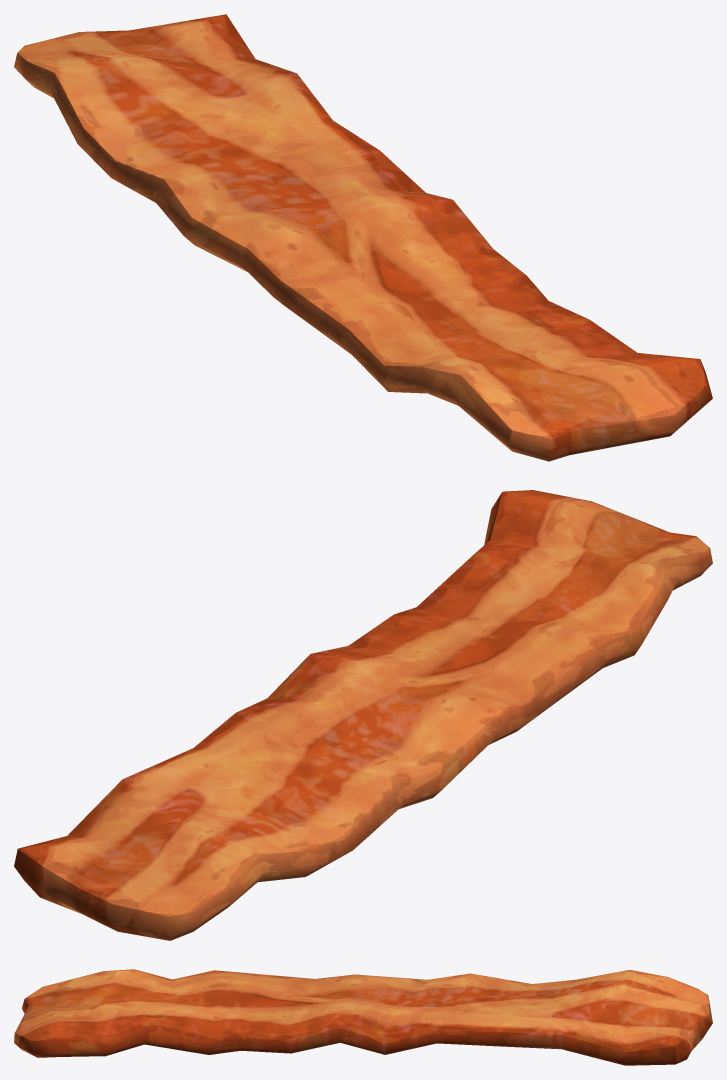
File: SM_BaconCooked.glb
3 renders of one model, top to bottom at view 1: azimuth 30°, elevation 25°; view 2: azimuth 150°, elevation 25°; view 3: azimuth 270°, elevation 25°, orthographic. The views are drawn at different scales.
Visible parts, largest first — view 1: SM_BaconCooked; view 2: SM_BaconCooked; view 3: SM_BaconCooked.
Boxes of the visible parts, left/top/right/bottom form: SM_BaconCooked: left=14, top=14, right=712, bottom=461; SM_BaconCooked: left=14, top=490, right=712, bottom=940; SM_BaconCooked: left=14, top=969, right=712, bottom=1065.
Size of the model in its own units: 0.051 by 0.0122 by 0.1977.
1 material, 1 textured.
